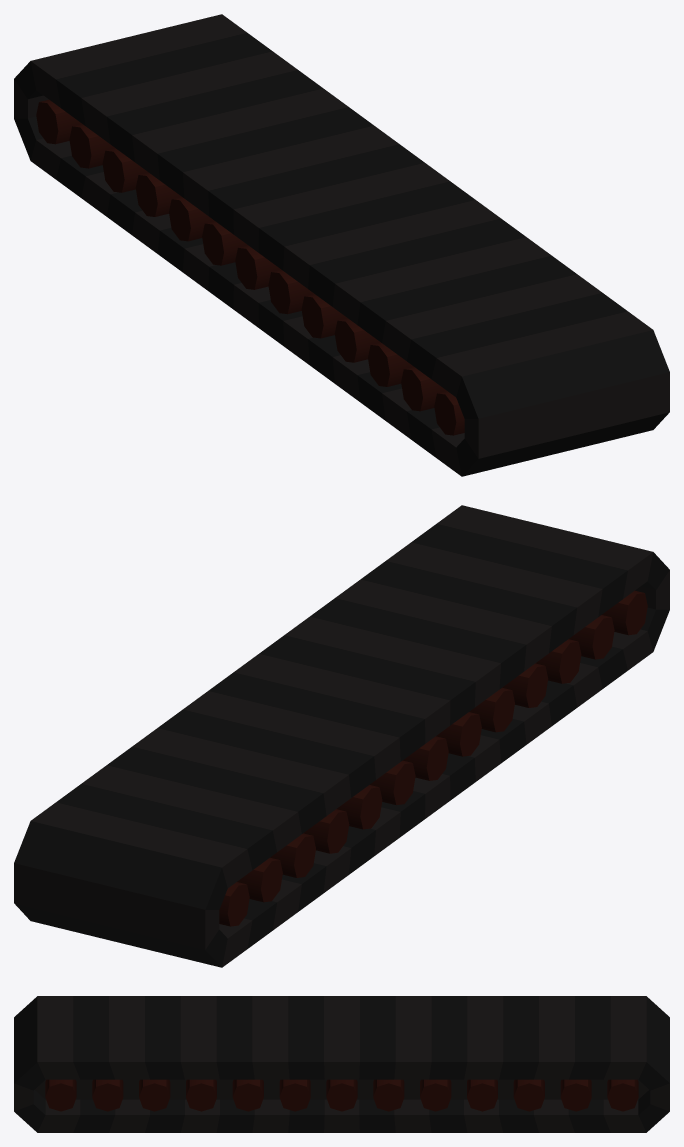
The model's file is banda_larga.fbx.
3 renders of one model, top to bottom at view 1: azimuth 30°, elevation 25°; view 2: azimuth 150°, elevation 25°; view 3: azimuth 270°, elevation 25°, orthographic. The views are drawn at different scales.
Parts seen in each view (by area): view 1: banda_larga; view 2: banda_larga; view 3: banda_larga.
Part boxes in pixels (box(x1,y1,x2,y2)): banda_larga: box(14, 14, 669, 476); banda_larga: box(14, 505, 669, 967); banda_larga: box(14, 996, 669, 1132).
Size of the model in its own units: 100 by 50 by 420.
